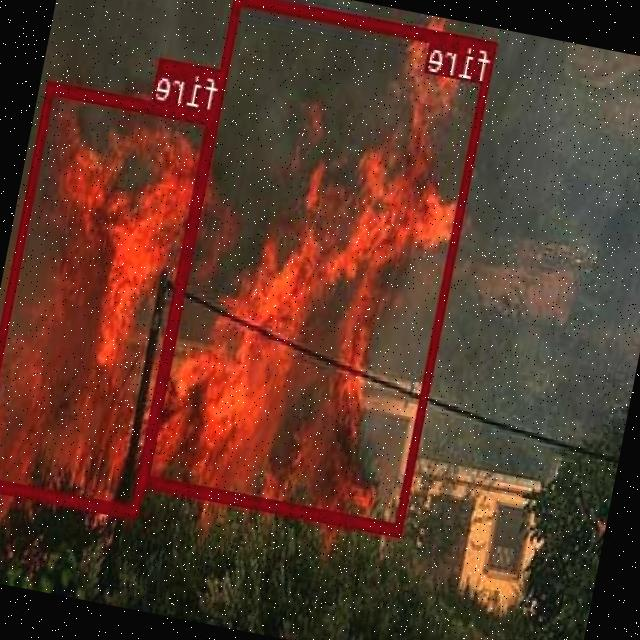fire: (141, 0, 498, 535), (0, 78, 217, 516)
